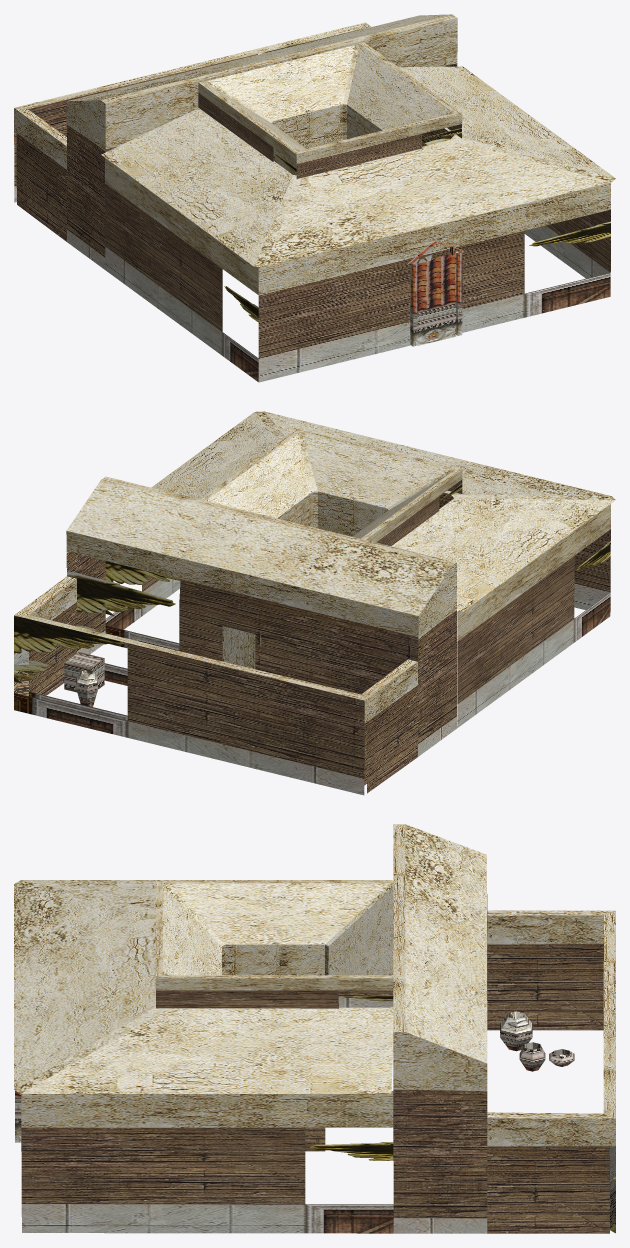
The model's file is rome_civic_house.dae.
The picture shows the model from 3 angles, top to bottom: view 1: azimuth 30°, elevation 25°; view 2: azimuth 150°, elevation 25°; view 3: azimuth 270°, elevation 25°; orthographic projection. The views are drawn at different scales.
Visible parts, largest first — view 1: rome_alt_09-Pivot; view 2: rome_alt_09-Pivot; view 3: rome_alt_09-Pivot.
Boxes of the visible parts, x1,y1,x2,y2 form: rome_alt_09-Pivot: (14, 14, 615, 382); rome_alt_09-Pivot: (14, 411, 615, 795); rome_alt_09-Pivot: (14, 824, 615, 1233).
Size of the model in its own units: 21.26 by 25.3 by 9.36.
